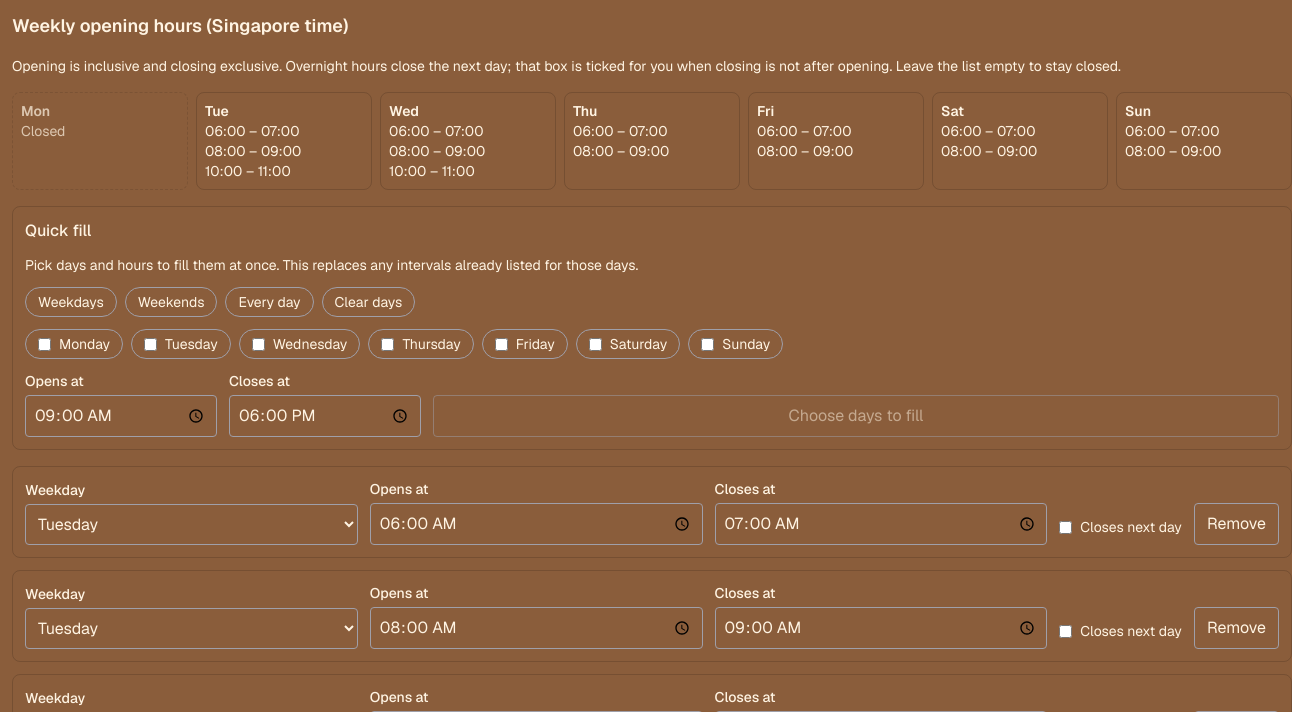
Test: quick fill stays disabled when it would exceed fourteen intervals
Click the checkbox named "Quick fill Monday" at x=44, y=344, box [38,338,51,350]
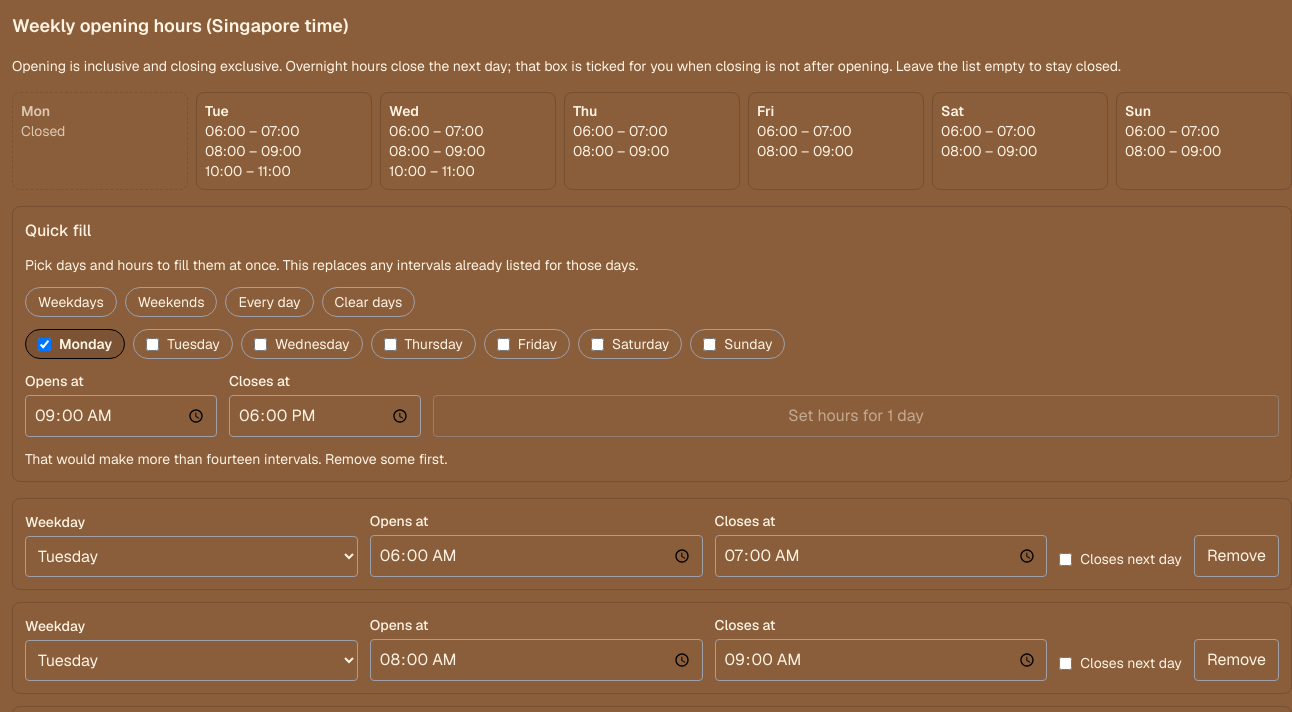
Expected: the button "Set hours for 1 day" is disabled, [433,395,1279,437]
Result: the text "That would make more than fourteen intervals. Remove some first." is shown at [25,450,447,468]
